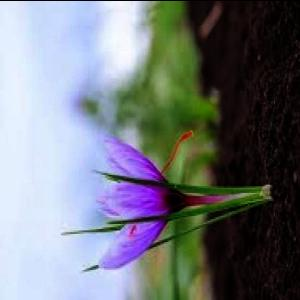Saffron: (95, 136, 210, 270)
